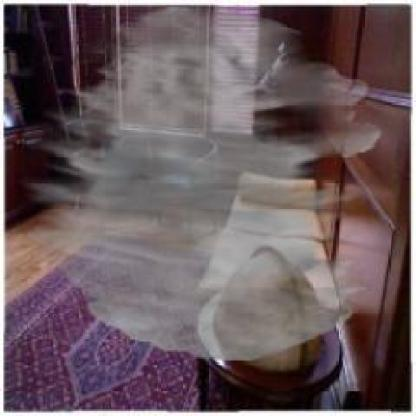Smoke: (20, 5, 382, 361)
